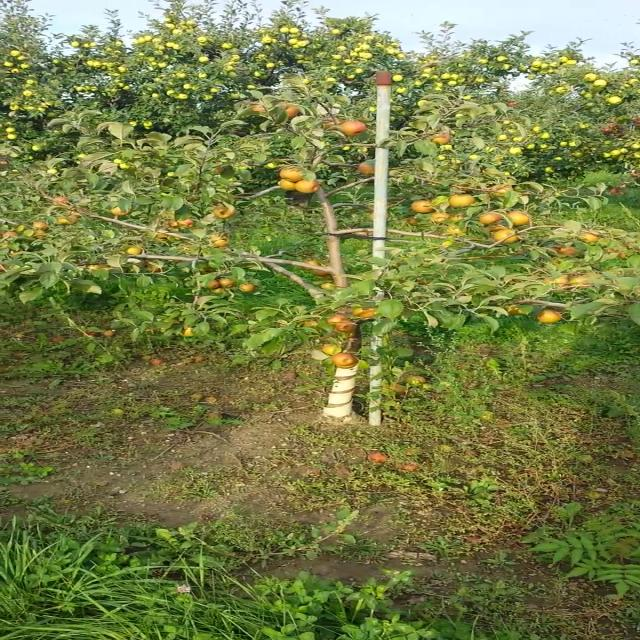apple: (575, 224, 612, 246), (543, 274, 574, 292), (276, 104, 300, 122), (503, 211, 530, 227), (280, 165, 305, 182), (412, 199, 440, 213), (535, 310, 563, 324), (335, 318, 359, 334), (503, 302, 530, 316), (554, 243, 581, 257), (339, 121, 368, 134), (449, 194, 475, 208), (493, 229, 519, 243), (442, 223, 469, 236), (319, 340, 343, 354), (248, 99, 268, 115), (478, 212, 502, 225), (484, 224, 506, 238), (492, 183, 514, 197), (321, 116, 343, 130), (213, 206, 234, 220), (354, 307, 383, 317), (142, 261, 166, 273), (297, 180, 319, 193), (50, 213, 76, 224), (432, 132, 452, 146), (3, 229, 24, 242), (300, 319, 322, 331), (325, 313, 345, 326), (331, 354, 356, 364), (177, 216, 197, 228), (614, 247, 630, 262), (568, 276, 588, 288), (218, 276, 236, 288), (602, 183, 620, 195), (279, 180, 297, 192), (236, 282, 255, 293), (430, 213, 450, 223), (110, 205, 130, 215), (359, 161, 374, 174), (34, 220, 50, 232), (124, 246, 144, 255), (52, 195, 70, 205), (452, 212, 470, 222), (204, 278, 220, 289), (307, 268, 329, 276), (177, 323, 191, 335), (212, 238, 228, 248), (210, 166, 223, 176), (210, 287, 225, 295), (406, 218, 420, 225), (86, 264, 102, 270), (334, 364, 356, 368), (304, 258, 317, 264), (321, 282, 332, 289), (166, 220, 178, 226)
